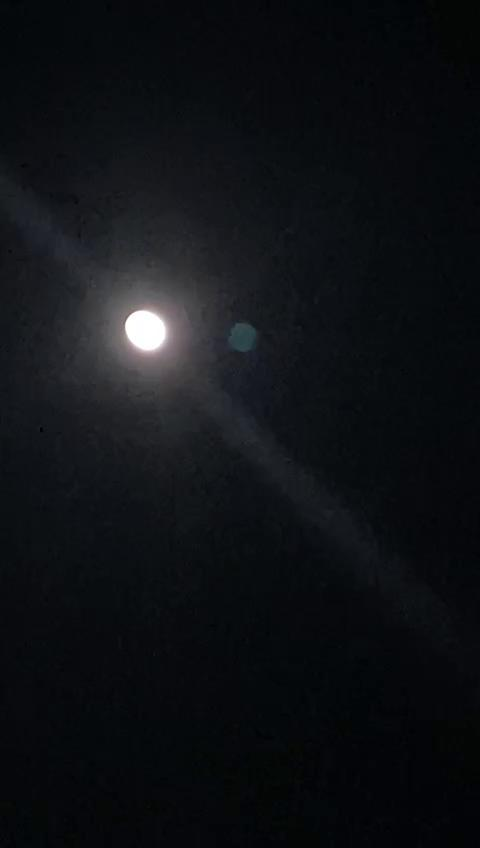moon: (119, 304, 177, 360)
